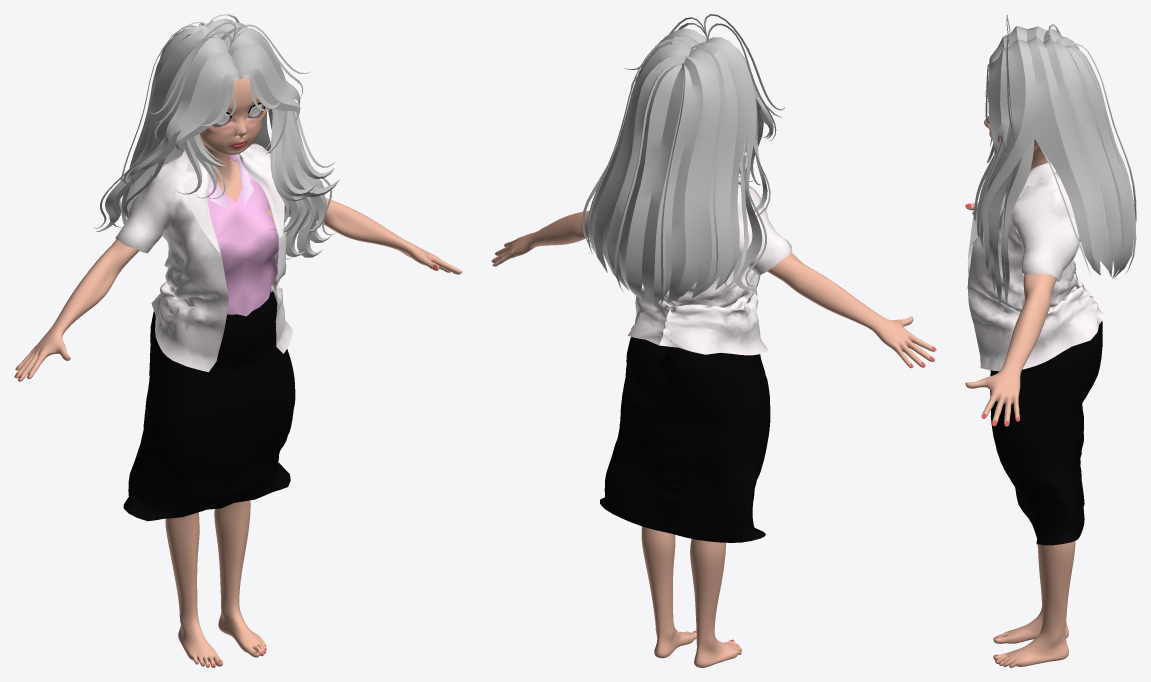
Rendered from Linda (Mother) Animation-v2.fbx.
3 renders of one model, left to right at view 1: azimuth 30°, elevation 25°; view 2: azimuth 150°, elevation 25°; view 3: azimuth 270°, elevation 25°, orthographic.
Parts seen in each view (by area): view 1: Cloth Outer celana, Hair, Head Ear Uv, Cloth Baju; view 2: Hair, Cloth Outer celana, Head Ear Uv; view 3: Cloth Outer celana, Hair, Head Ear Uv.
Boxes of the visible parts, left/top/right/bottom form: Cloth Outer celana: left=115, top=143, right=295, bottom=521; Hair: left=94, top=14, right=339, bottom=259; Head Ear Uv: left=14, top=77, right=462, bottom=667; Cloth Baju: left=207, top=154, right=278, bottom=316; Hair: left=582, top=14, right=784, bottom=304; Cloth Outer celana: left=600, top=179, right=792, bottom=542; Head Ear Uv: left=491, top=210, right=936, bottom=667; Cloth Outer celana: left=967, top=162, right=1105, bottom=545; Hair: left=974, top=14, right=1136, bottom=308; Head Ear Uv: left=965, top=79, right=1075, bottom=667.
Bounding box in the file's own units: 145 × 199 × 48.95.
